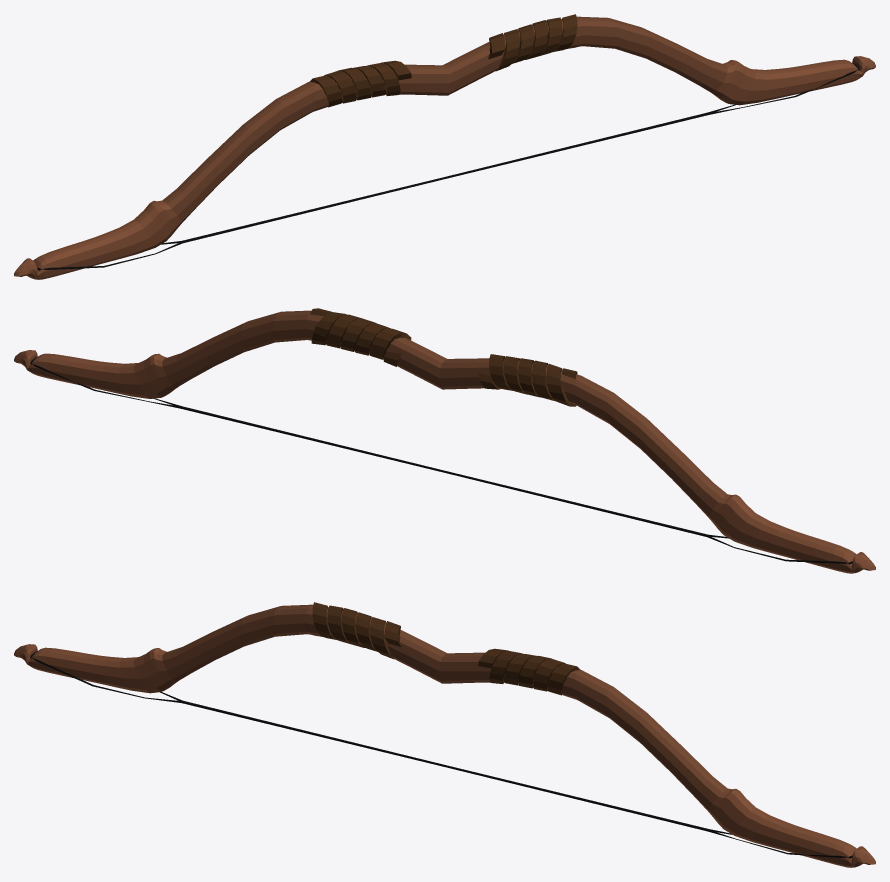
Rendered from Rogue_T2_Weapon.fbx.
3 renders of one model, top to bottom at view 1: azimuth 30°, elevation 25°; view 2: azimuth 150°, elevation 25°; view 3: azimuth 330°, elevation 25°, orthographic.
Parts seen in each view (by area): view 1: Plane; view 2: Plane; view 3: Plane.
Part boxes in pixels (x1,y1,x2,y2): Plane: (14,14,875,279); Plane: (14,308,875,573); Plane: (14,602,875,867).
Size of the model in its own units: 463 by 68.75 by 14.28.
